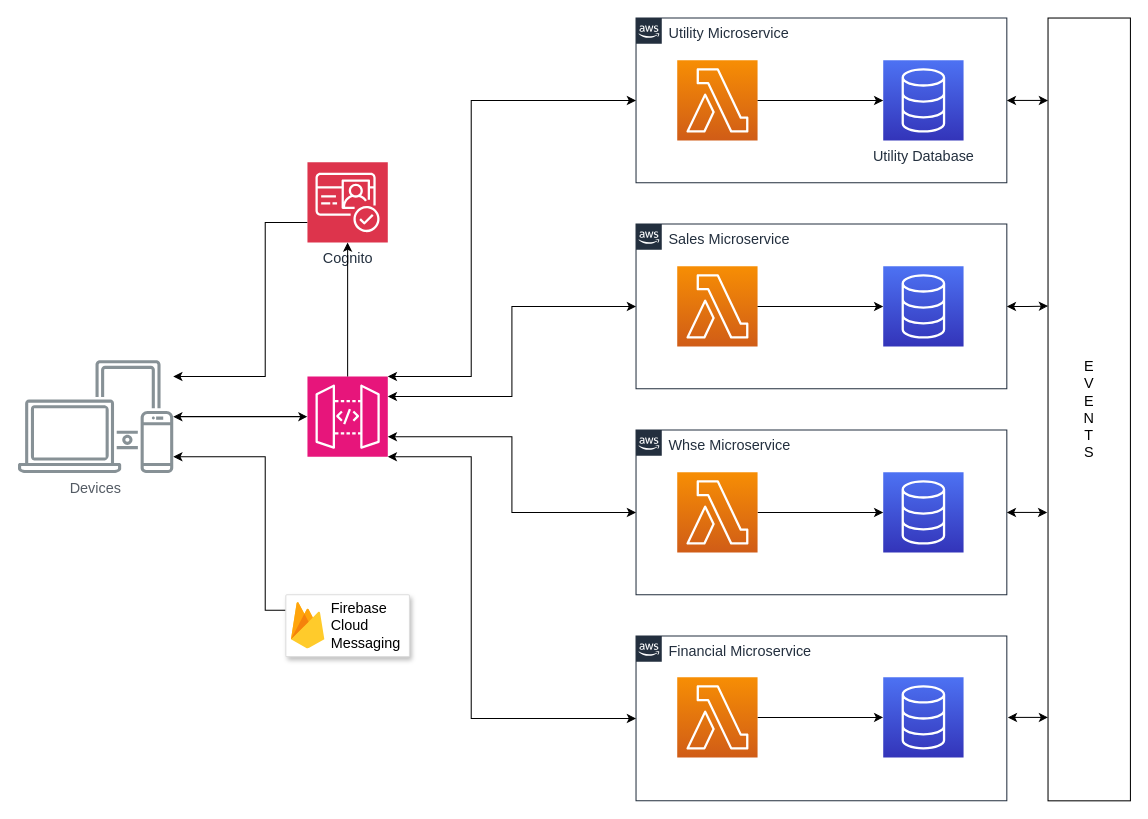
Some shapes in this 1148 by 819 pixel diagram are drawn without their labels. The centre of each missing label's shape, as x and y in pixels:
"API Gateway" belongs at pixel 347 416.
"Financial Database" belongs at pixel 923 717.
"Sales Database" belongs at pixel 923 306.
"Whse Database" belongs at pixel 923 512.
